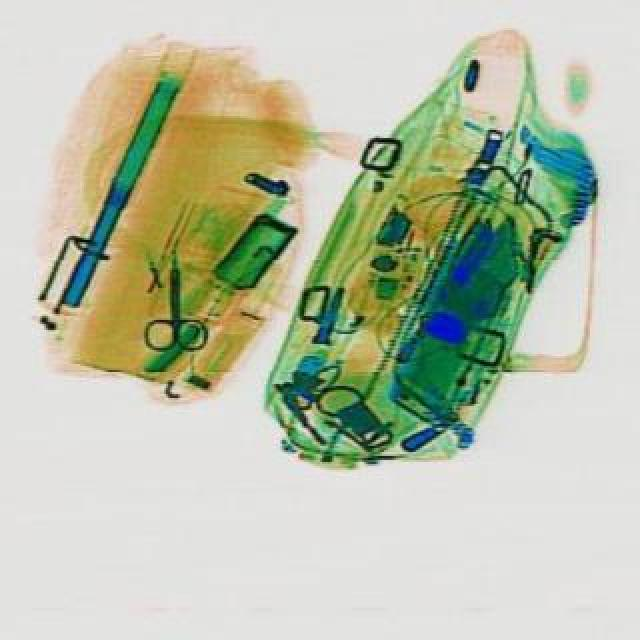pliers: (140, 262, 204, 350)
